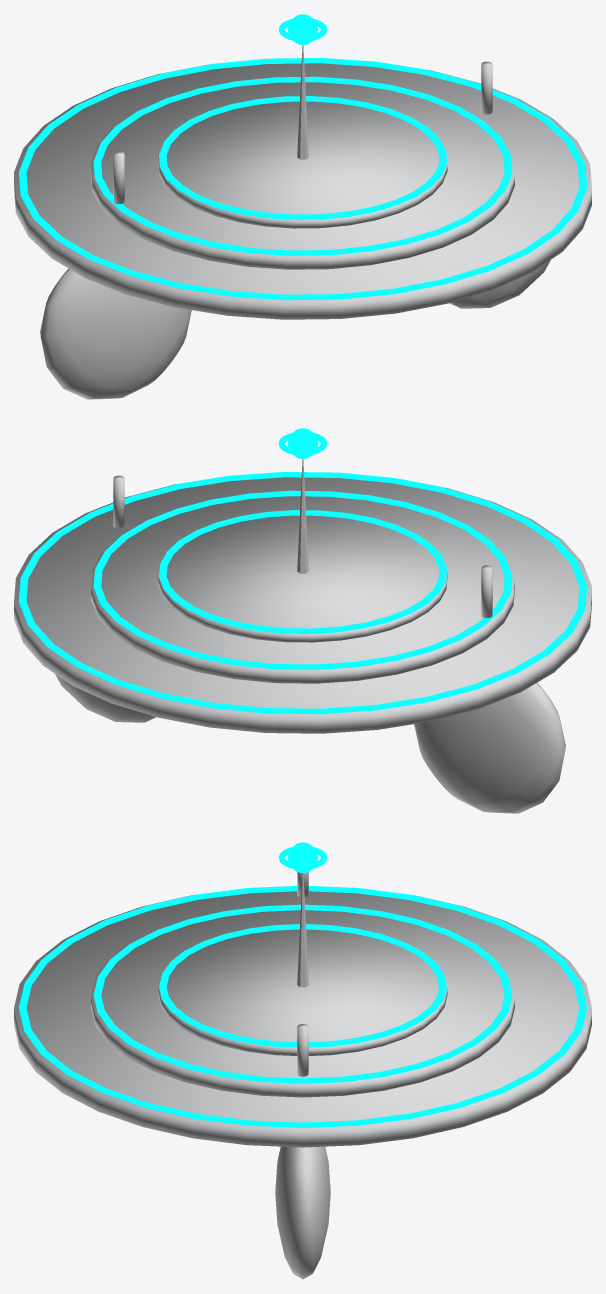
The model's file is azure_matrix_warp.glb.
The picture shows the model from 3 angles, top to bottom: view 1: azimuth 30°, elevation 25°; view 2: azimuth 150°, elevation 25°; view 3: azimuth 270°, elevation 25°; orthographic projection.
Parts seen in each view (by area): view 1: AzureMatrixWarp; view 2: AzureMatrixWarp; view 3: AzureMatrixWarp.
Boxes of the visible parts, x1,y1,x2,y2 form: AzureMatrixWarp: [14, 14, 591, 399]; AzureMatrixWarp: [14, 428, 591, 813]; AzureMatrixWarp: [14, 842, 591, 1279].
Bounding box in the file's own units: 6.27 × 3.86 × 6.
